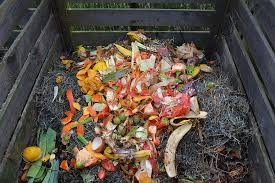kitchen_waste: (162, 119, 193, 177), (112, 77, 165, 110), (30, 128, 60, 183), (76, 46, 105, 100), (103, 144, 155, 166), (60, 88, 81, 125), (72, 145, 105, 166), (132, 157, 157, 183), (128, 40, 143, 77), (22, 144, 47, 162), (87, 136, 108, 153), (111, 111, 129, 125)
